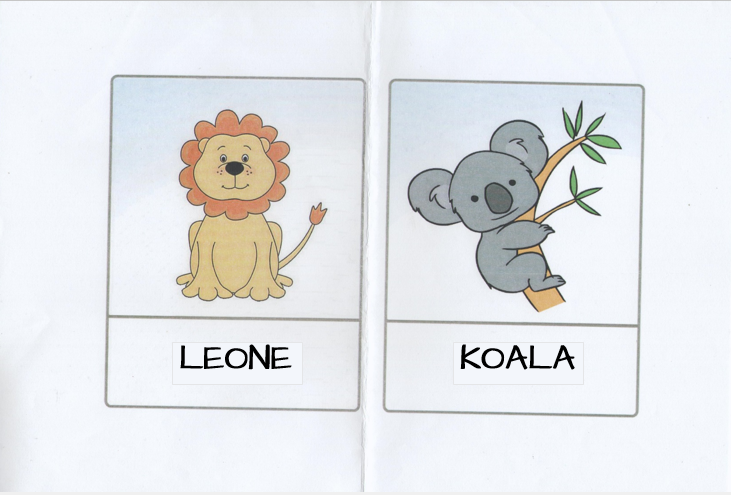koala: (395, 92, 628, 395)
leone: (121, 87, 352, 396)
